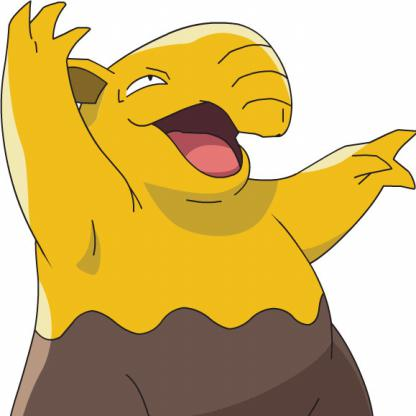Drowzee: (1, 1, 416, 416)
